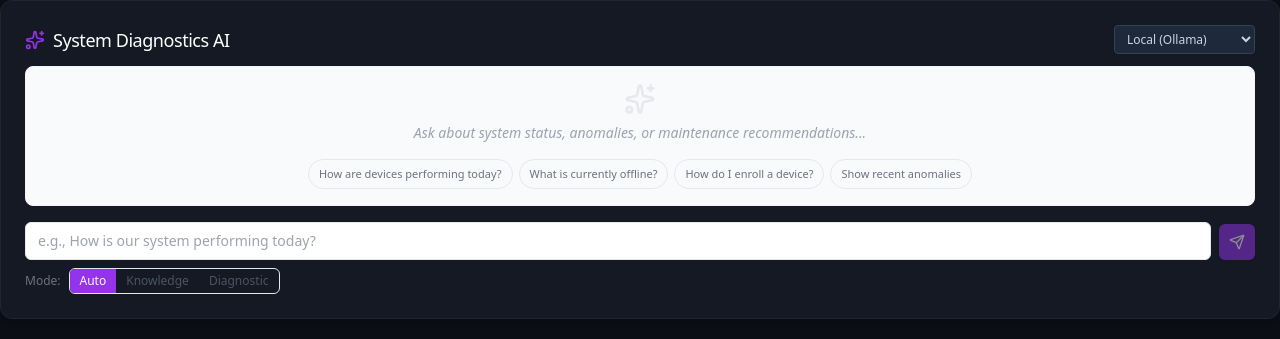
AskAIWidget failure messages (frontend/src/utils/aiErrorMessage.js) › explains a busy assistant (503) instead of failing generically
Type "What is the system status?" into the field. click: [618, 241]
box: [25,222,1211,260]
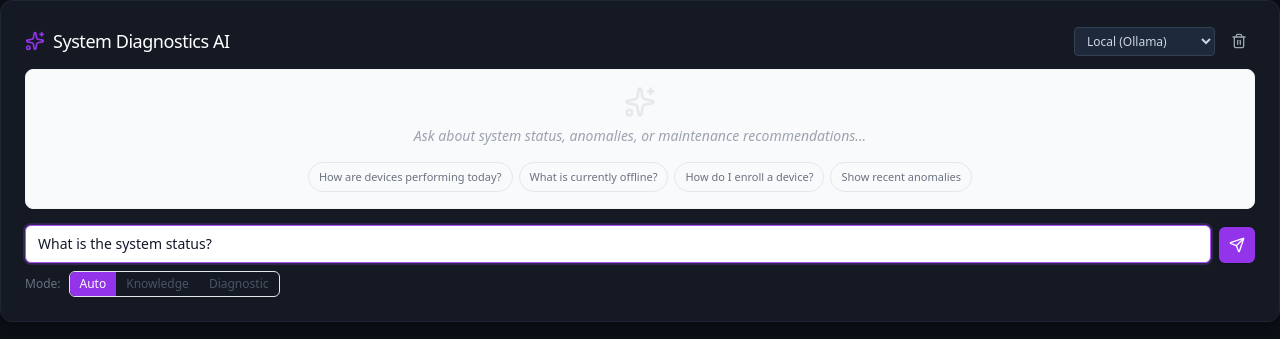
Click the button named "Send". click: [1237, 245]
box: [1219,227,1255,263]
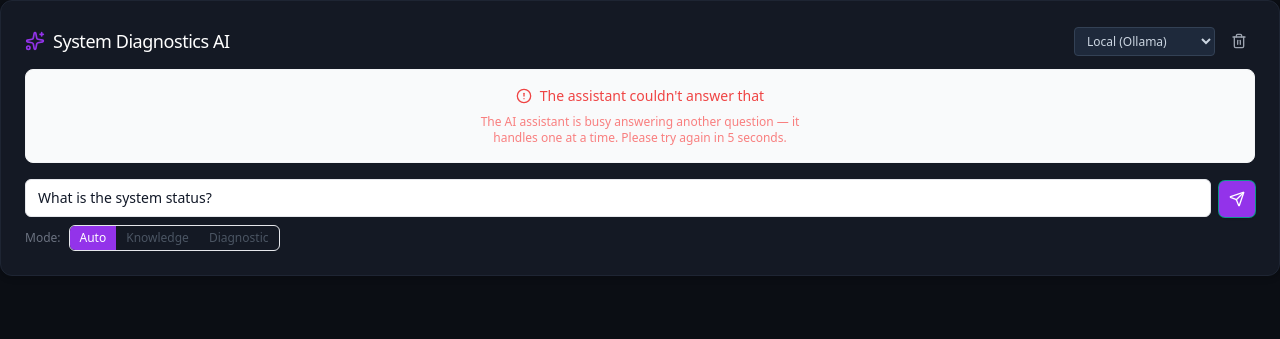
Now the text "busy answering another question" is shown, box [481,113,799,146]
